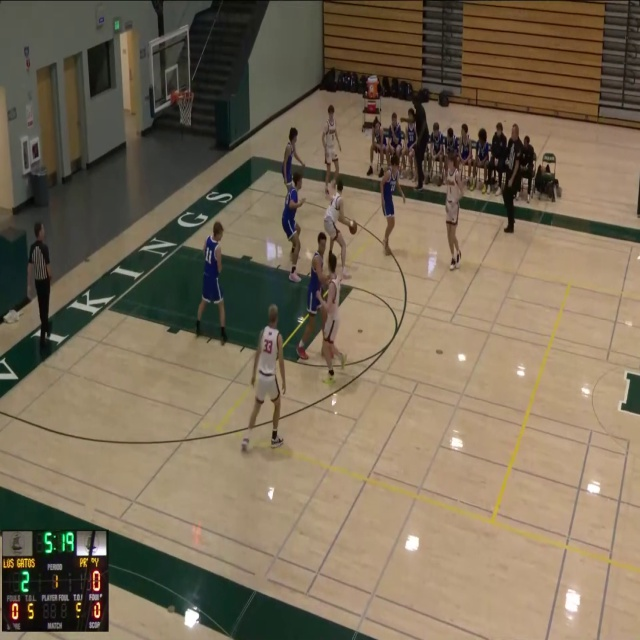Basketball: (348, 220, 357, 234)
